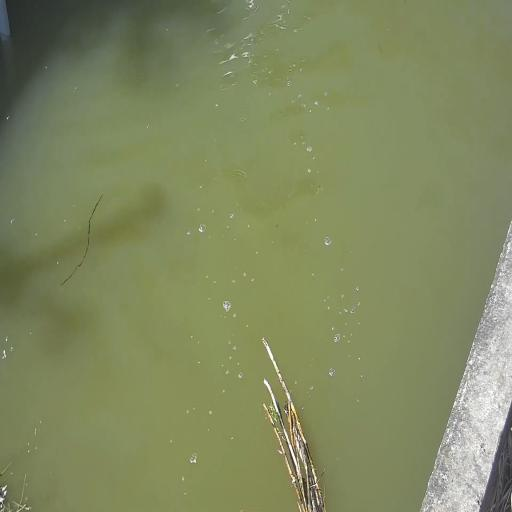twig: (251, 332, 340, 512)
